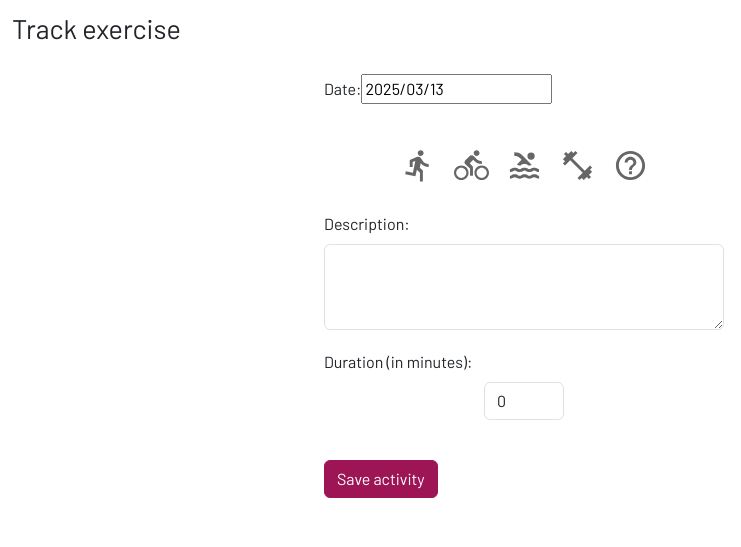
Scenario: should display error for unsuccessful response
This screenshot has width=741, height=547.
Click the element with test id "RunningBtn" at (418, 166), box [400,148,436,183]
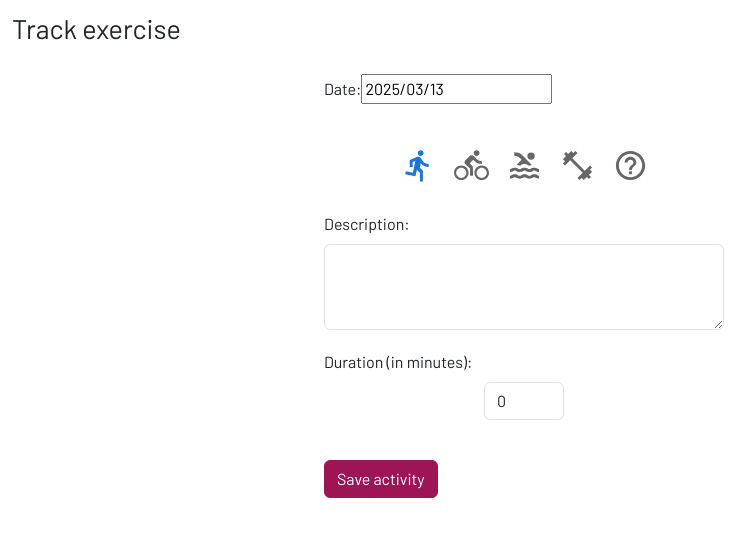
Type "Describing my exercise" into the text box labelled "Description:" at (524, 287), box [324,244,724,330]
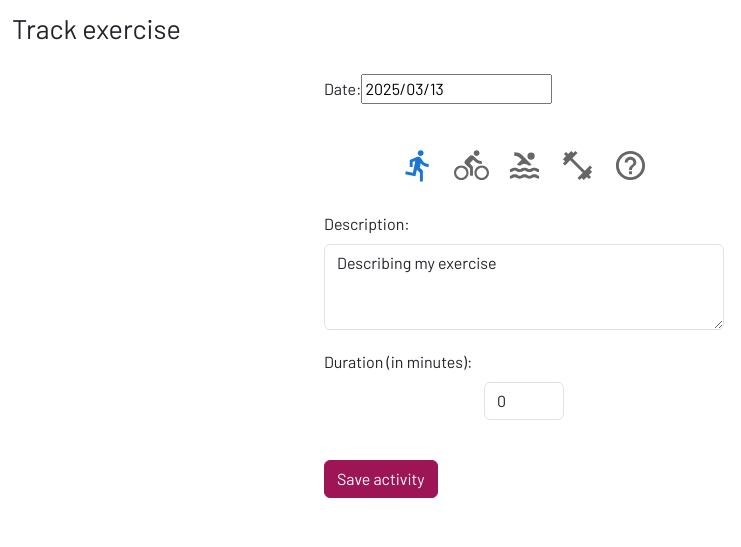
Replace the text in the number field labelled "Duration (in minutes):" with "20" at (524, 401), box [484,382,564,420]
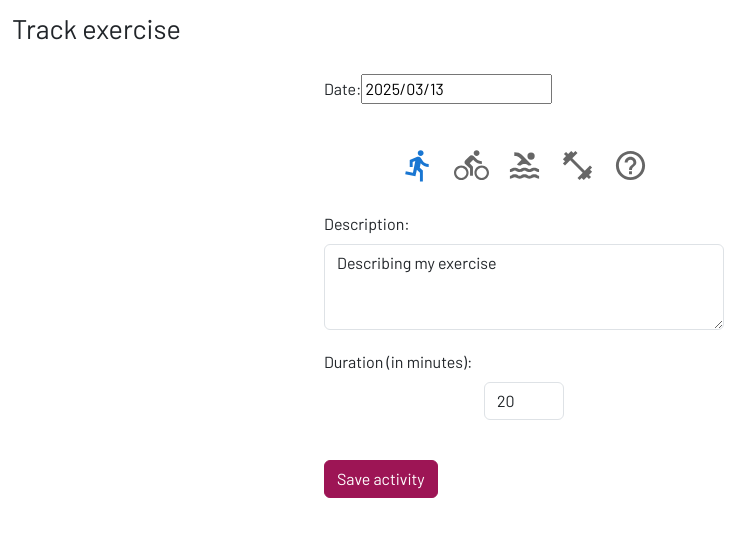
Click the button "Save activity" at (381, 479), box [324,460,438,498]
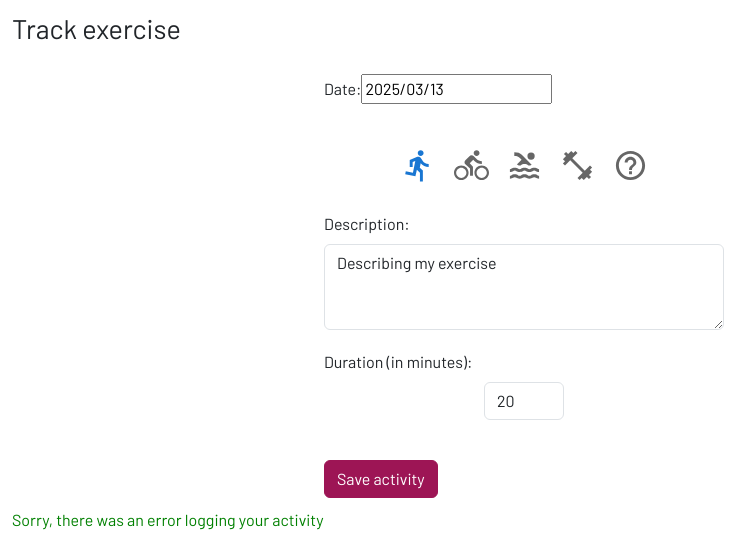
Result: the text "Sorry, there was an error logging your activity" is shown at [12,510,324,529]
